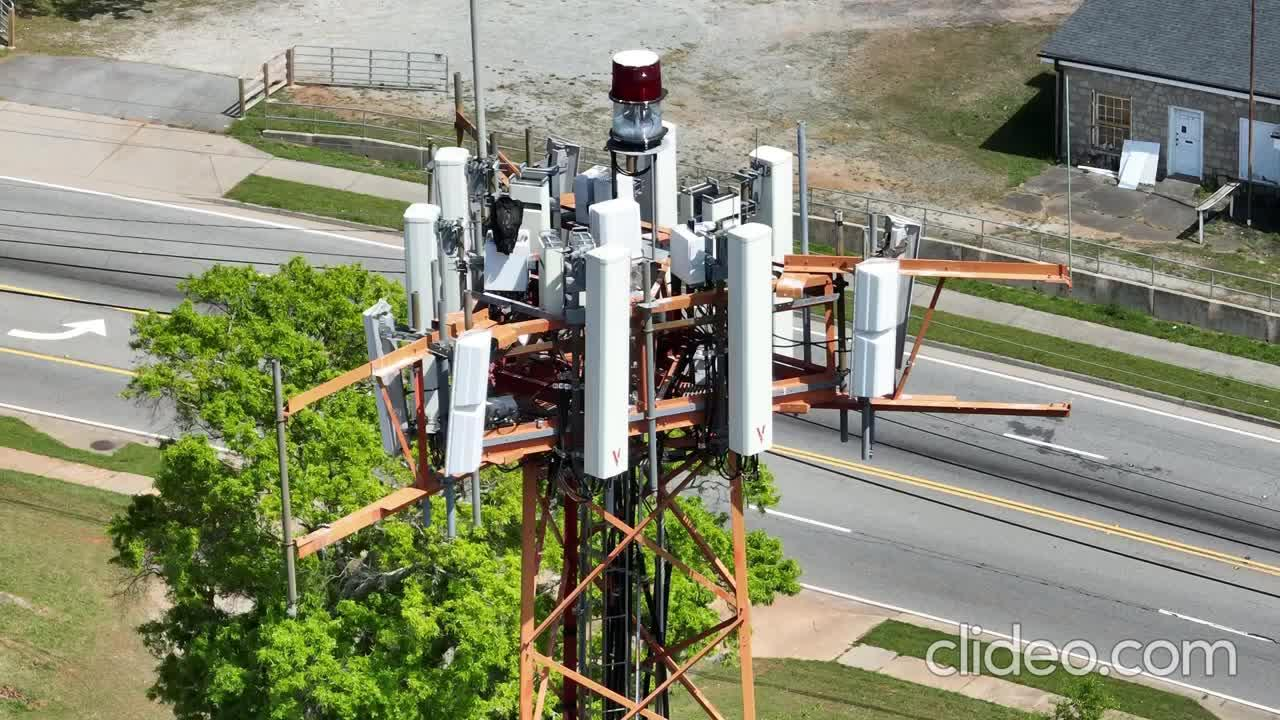antenna: (726, 222, 779, 472), (582, 249, 636, 481), (353, 293, 418, 462), (440, 327, 496, 480), (849, 251, 898, 409), (396, 200, 446, 328), (747, 136, 798, 257), (429, 119, 476, 246), (576, 194, 651, 252)
